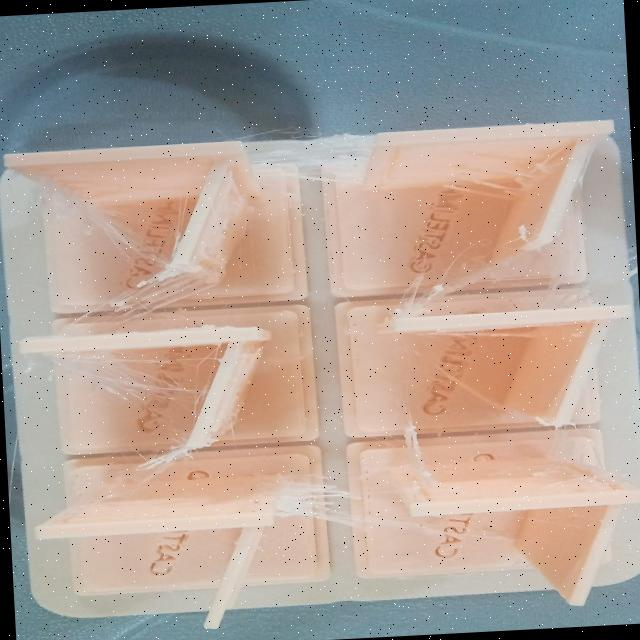stringing: (78, 348, 193, 406), (256, 130, 372, 183), (274, 471, 382, 523), (105, 268, 204, 321)
